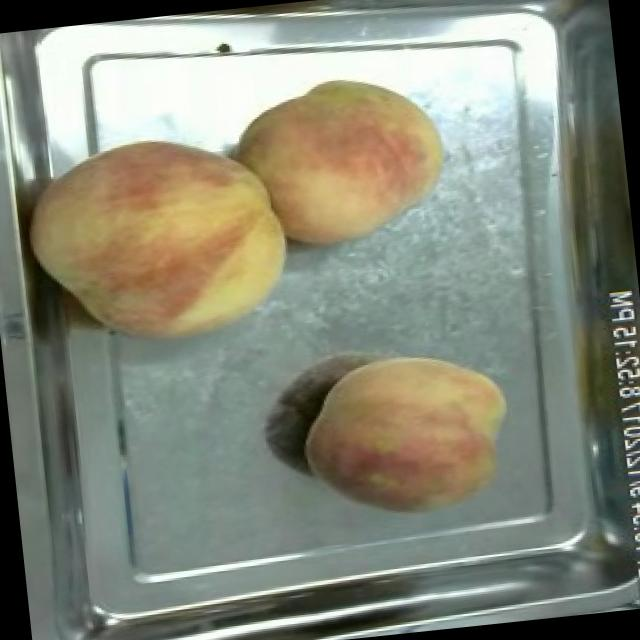Fruit: (9, 113, 304, 364), (286, 334, 524, 532), (229, 56, 461, 259)
